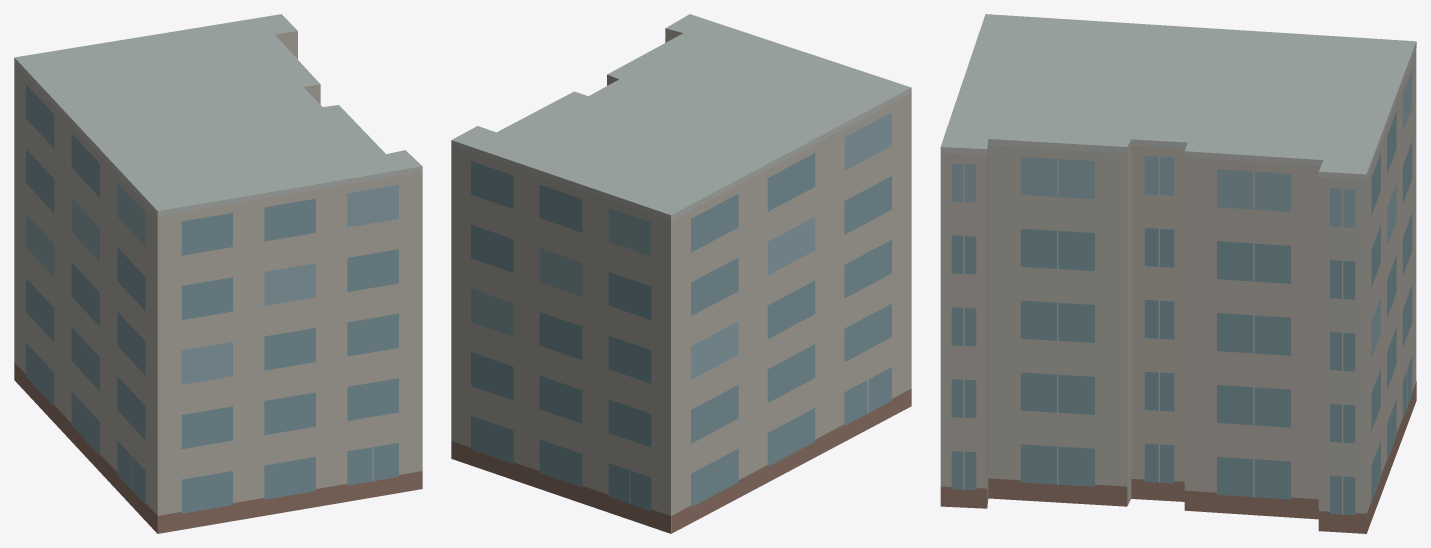
Rendered from survey-upis-33015430.glb.
The picture shows the model from 3 angles, left to right: view 1: azimuth 30°, elevation 25°; view 2: azimuth 150°, elevation 25°; view 3: azimuth 270°, elevation 25°; orthographic projection. The views are drawn at different scales.
Parts seen in each view (by area): view 1: survey-upis-33015430.tmp; view 2: survey-upis-33015430.tmp; view 3: survey-upis-33015430.tmp.
Part boxes in pixels (<box>): survey-upis-33015430.tmp: <box>14,14,422,533</box>; survey-upis-33015430.tmp: <box>451,14,911,533</box>; survey-upis-33015430.tmp: <box>940,14,1416,533</box>.
Size of the model in its own units: 13.84 by 14.45 by 17.35.
